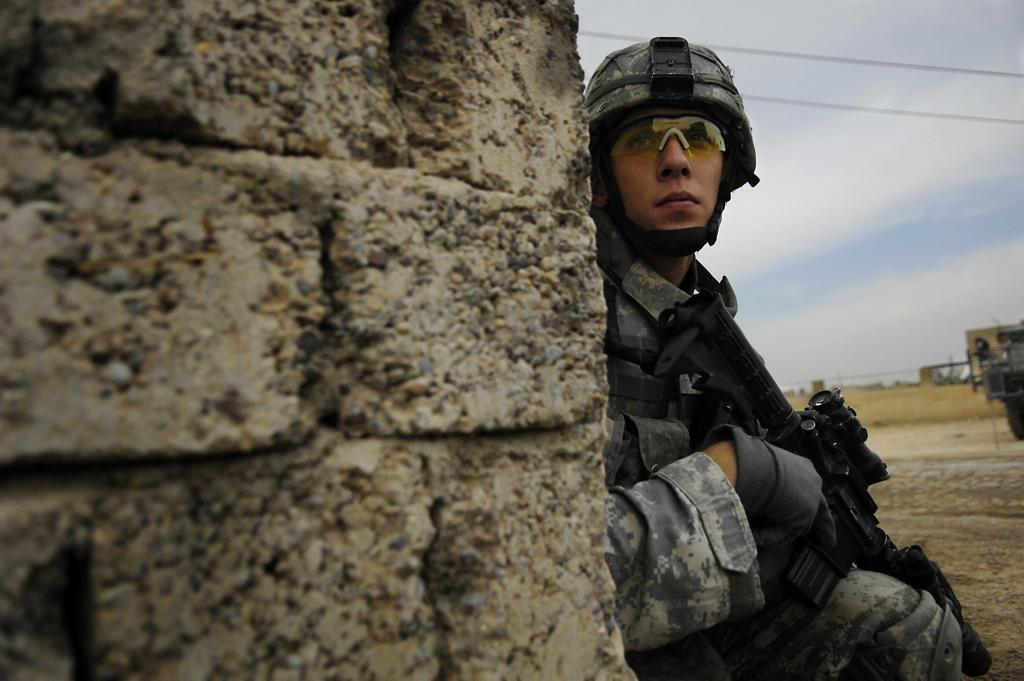face: (615, 95, 725, 239)
